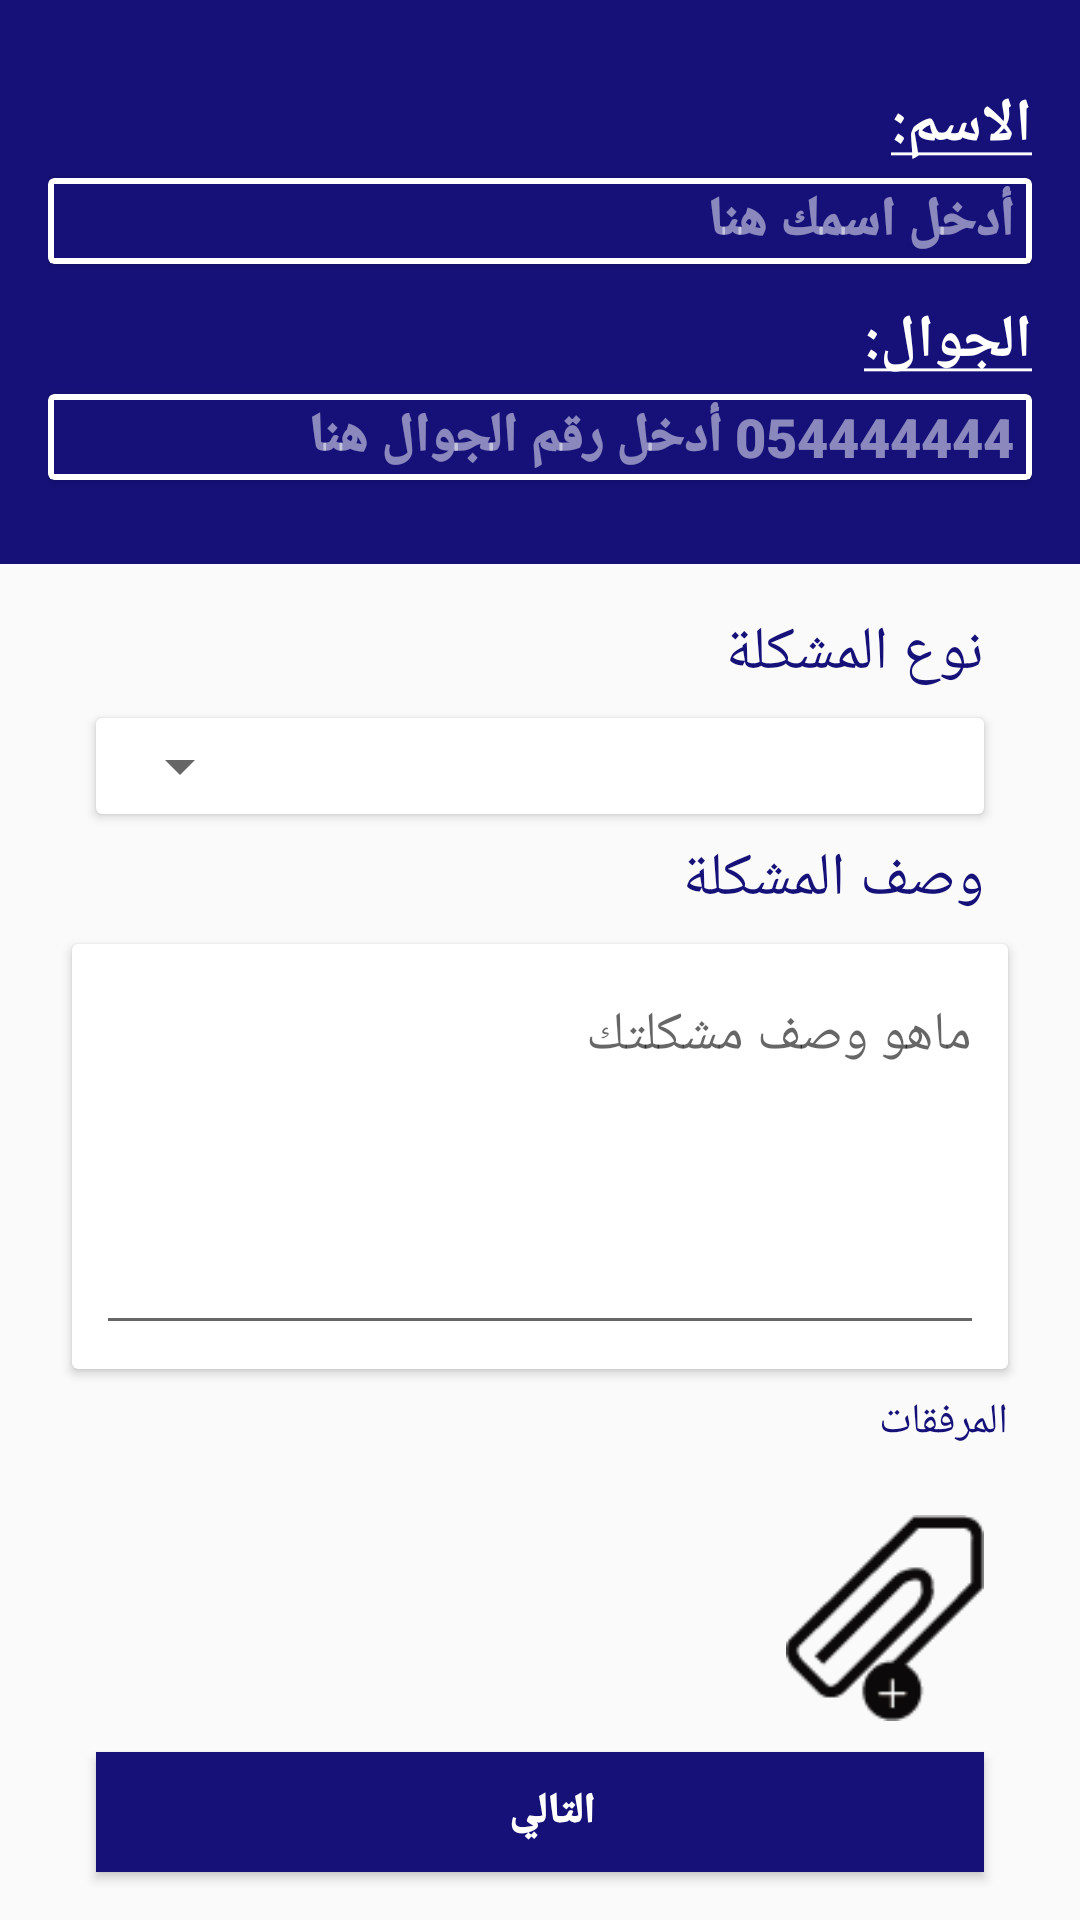

Icons on this 1080w x 1920h Android screen, each with the point to tap as (x,y):
attachment: (885,1618)
